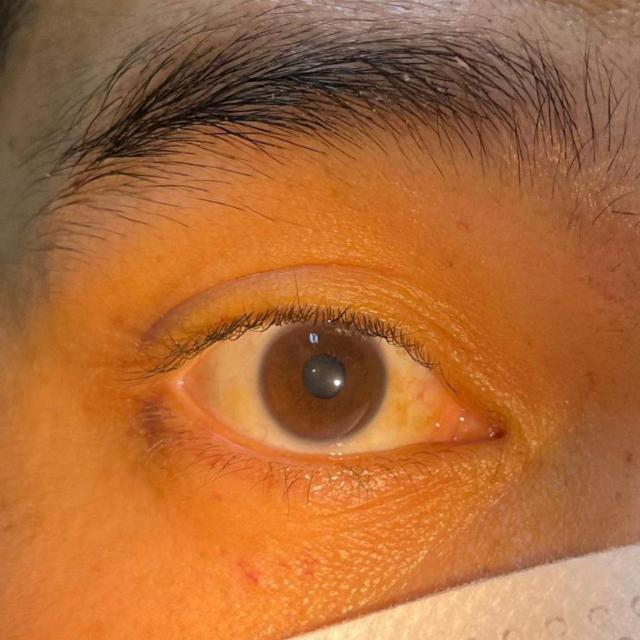Normal: (258, 312, 399, 445)
